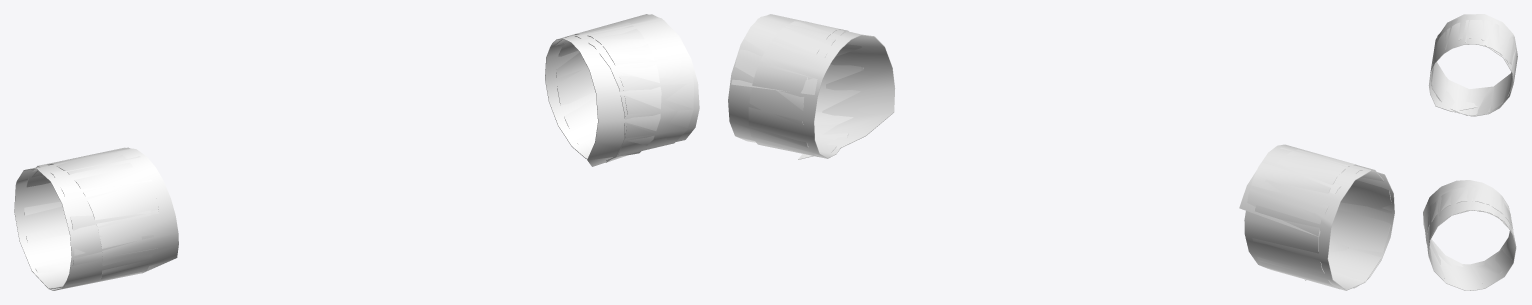
File: Level 197 unroll sailor moon ponytail.fbx
3 renders of one model, left to right at view 1: azimuth 30°, elevation 25°; view 2: azimuth 150°, elevation 25°; view 3: azimuth 270°, elevation 25°, orthographic. The views are drawn at different scales.
Parts seen in each view (by area): view 1: Blend, Blend1; view 2: Blend1, Blend; view 3: Blend1, Blend.
Part boxes in pixels (<box>): Blend: <box>14,147,178,290</box>; Blend1: <box>545,14,699,166</box>; Blend1: <box>728,14,895,159</box>; Blend: <box>1239,144,1394,290</box>; Blend1: <box>1423,180,1516,290</box>; Blend: <box>1428,14,1517,116</box>.
Size of what is drawn, in the model's own units: 1073 by 198 by 212.
